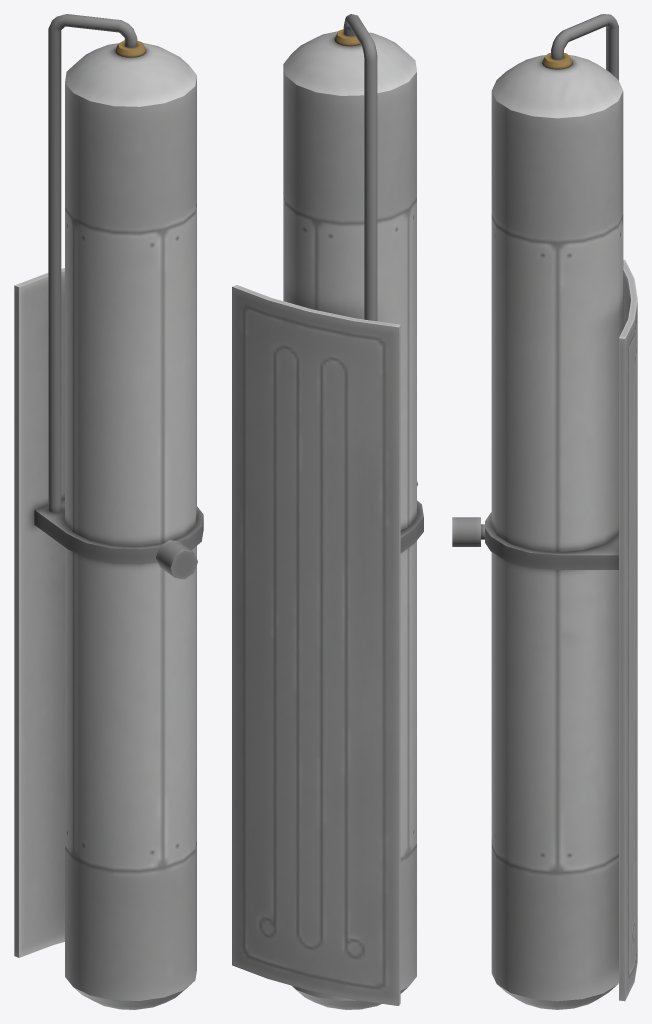
Rendered from Alniyat_MonoSingle_1_2.obj.
3 views of the same model, side by side, from view 1: azimuth 30°, elevation 25°; view 2: azimuth 150°, elevation 25°; view 3: azimuth 270°, elevation 25° (orthographic). The views are drawn at different scales.
Visible parts, largest first — view 1: Alniyat_MonoSingle_1_2; view 2: Alniyat_MonoSingle_1_2; view 3: Alniyat_MonoSingle_1_2.
Boxes of the visible parts, <box> form: Alniyat_MonoSingle_1_2: <box>14,14,203,1009</box>; Alniyat_MonoSingle_1_2: <box>232,14,423,1009</box>; Alniyat_MonoSingle_1_2: <box>452,14,637,1009</box>.
Bounding box in the file's own units: 0.357 × 2.03 × 0.3525.
